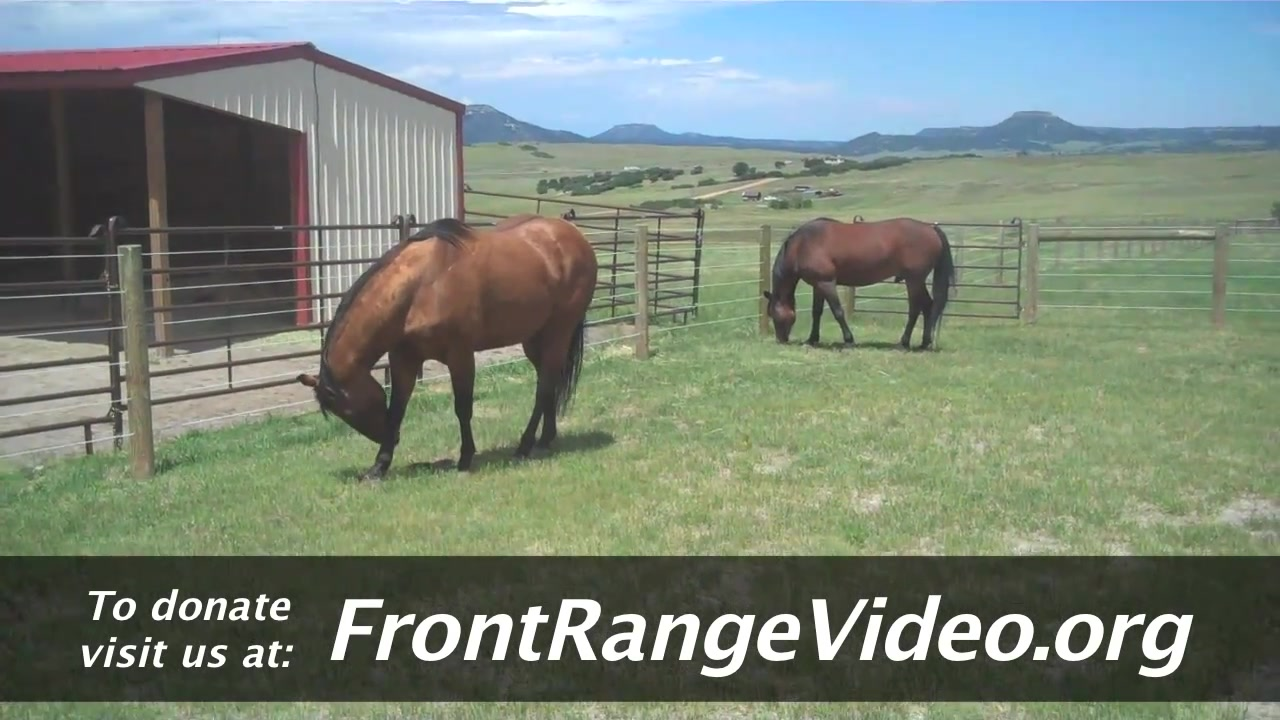horse: (297, 213, 600, 479), (763, 220, 960, 354)
